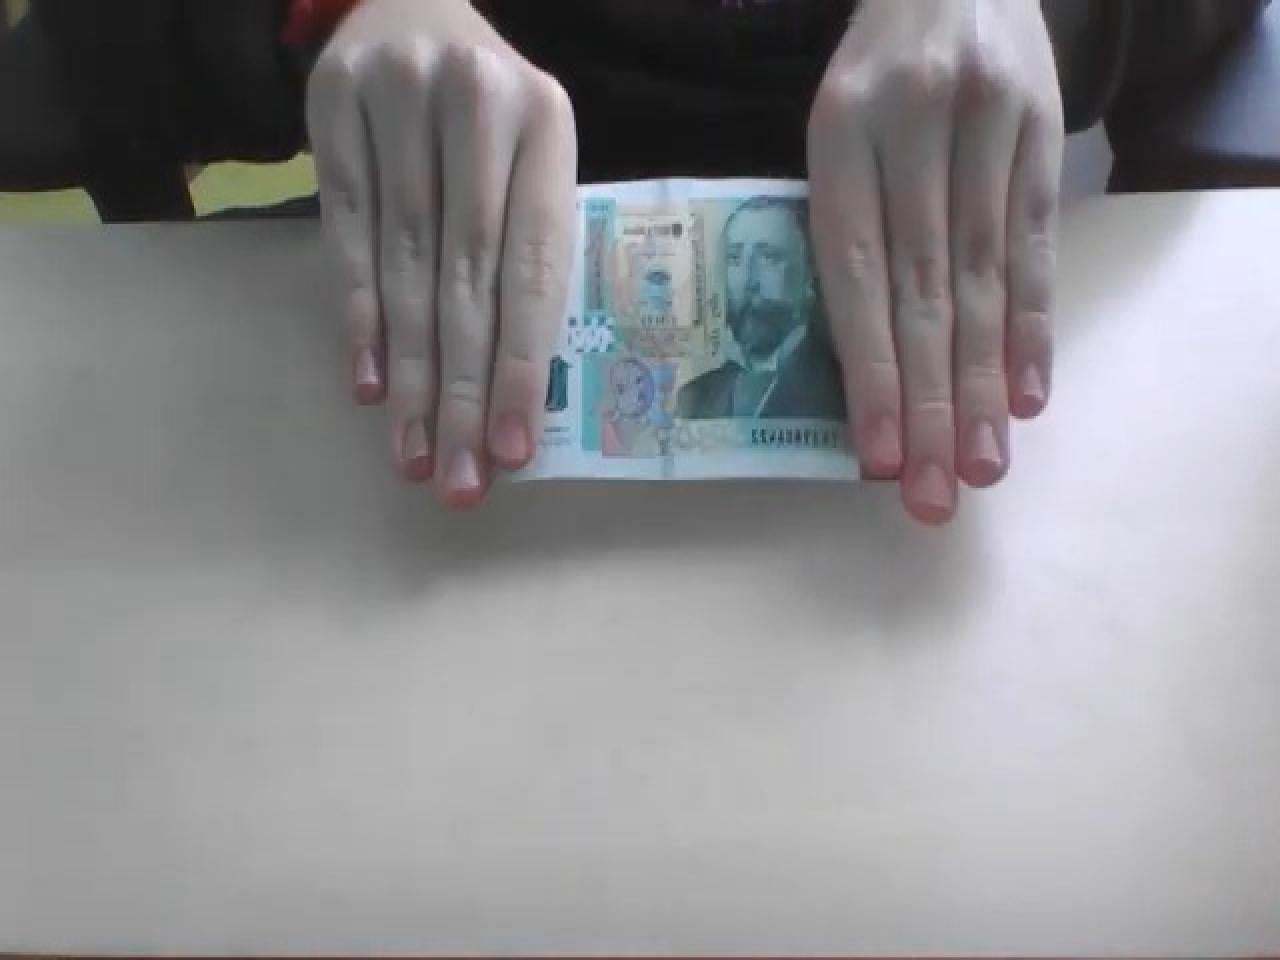100leva: (516, 176, 864, 483), (674, 190, 848, 424)
